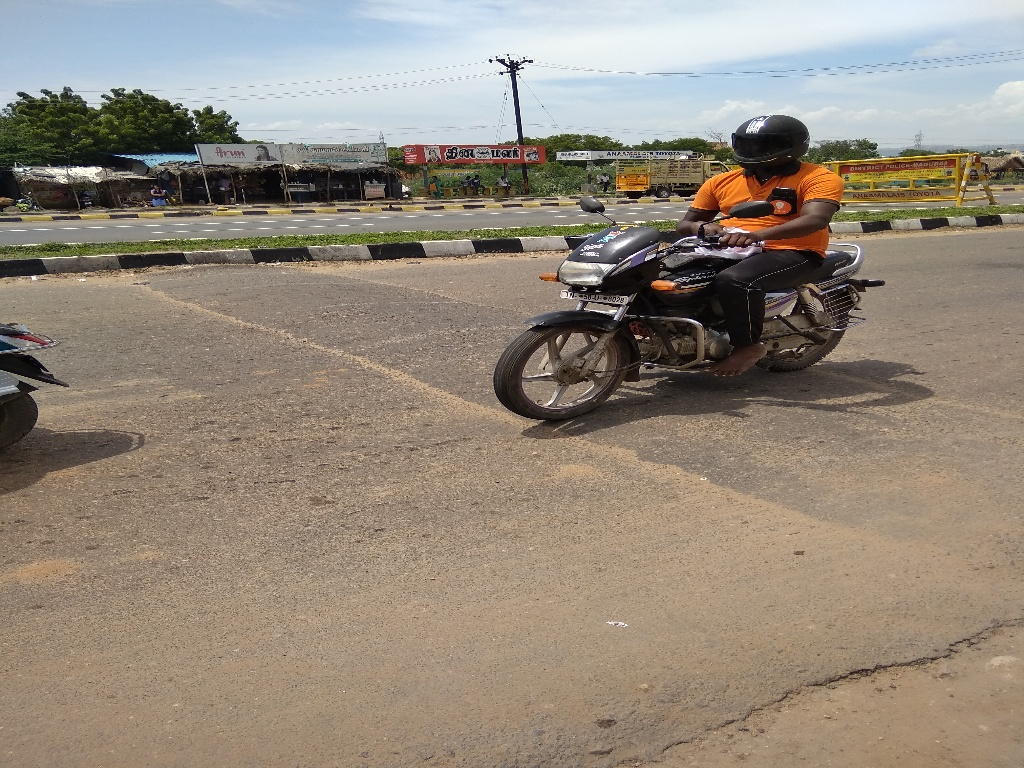biker: (464, 73, 911, 446)
helmet: (715, 90, 828, 183)
